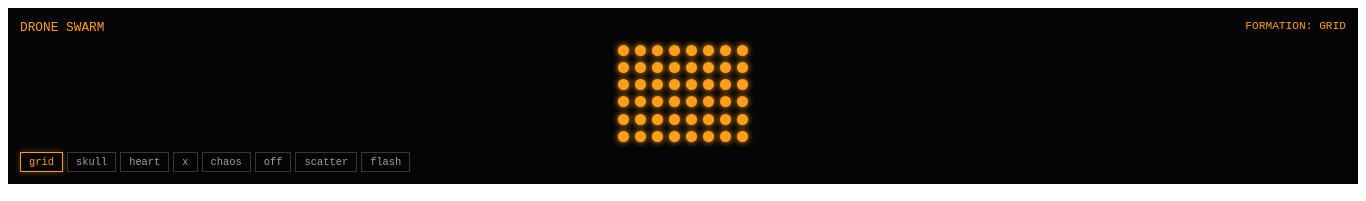
Test case: DroneSwarm Component › should switch to SKULL formation on button click
Click the button "skull" at coordinates (92, 162), box [67, 152, 116, 172]
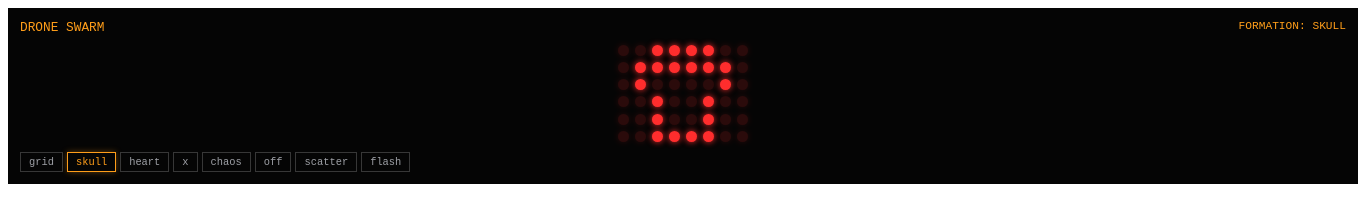
Check: the text "FORMATION: SKULL" is shown, box [1239, 20, 1346, 35]
